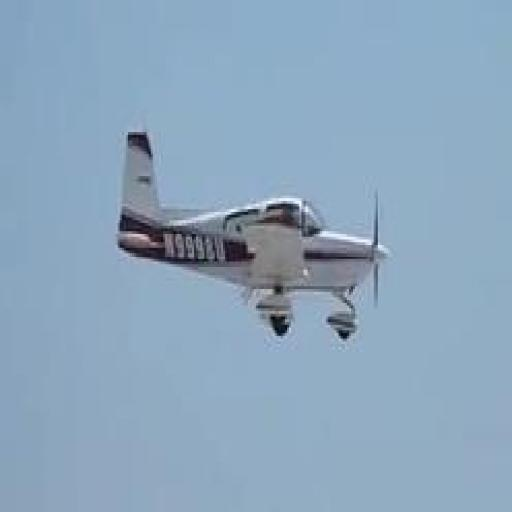aircraft: (117, 132, 396, 342)
